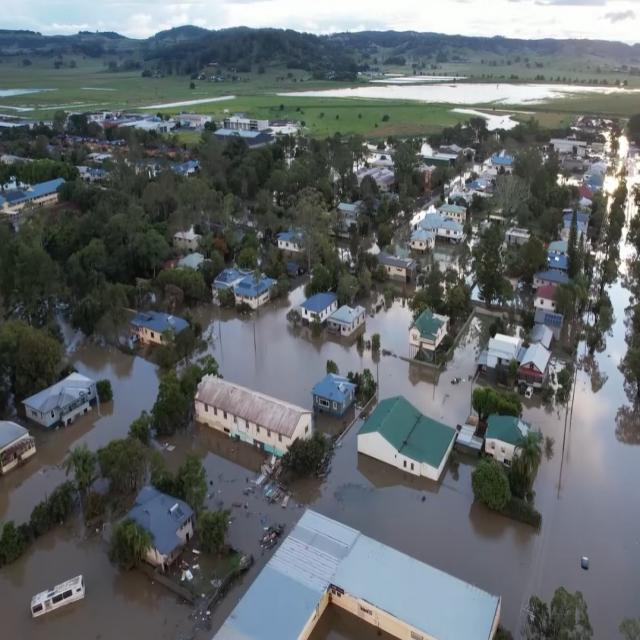flood: (0, 228, 640, 640), (208, 290, 492, 426), (0, 345, 157, 520), (279, 82, 640, 104), (607, 137, 640, 218), (139, 95, 236, 108), (0, 88, 51, 96)
house: (208, 508, 510, 640), (356, 389, 462, 487), (193, 374, 307, 457), (118, 487, 204, 572), (20, 371, 96, 434), (214, 264, 276, 316), (129, 308, 192, 358), (310, 368, 360, 426), (481, 414, 522, 472), (0, 417, 35, 483), (517, 340, 554, 400), (410, 308, 449, 362), (371, 248, 417, 286), (322, 302, 363, 341), (298, 290, 336, 332), (418, 214, 464, 238), (532, 282, 557, 312), (170, 228, 200, 250), (410, 229, 436, 250), (441, 203, 467, 220), (275, 230, 296, 251)
